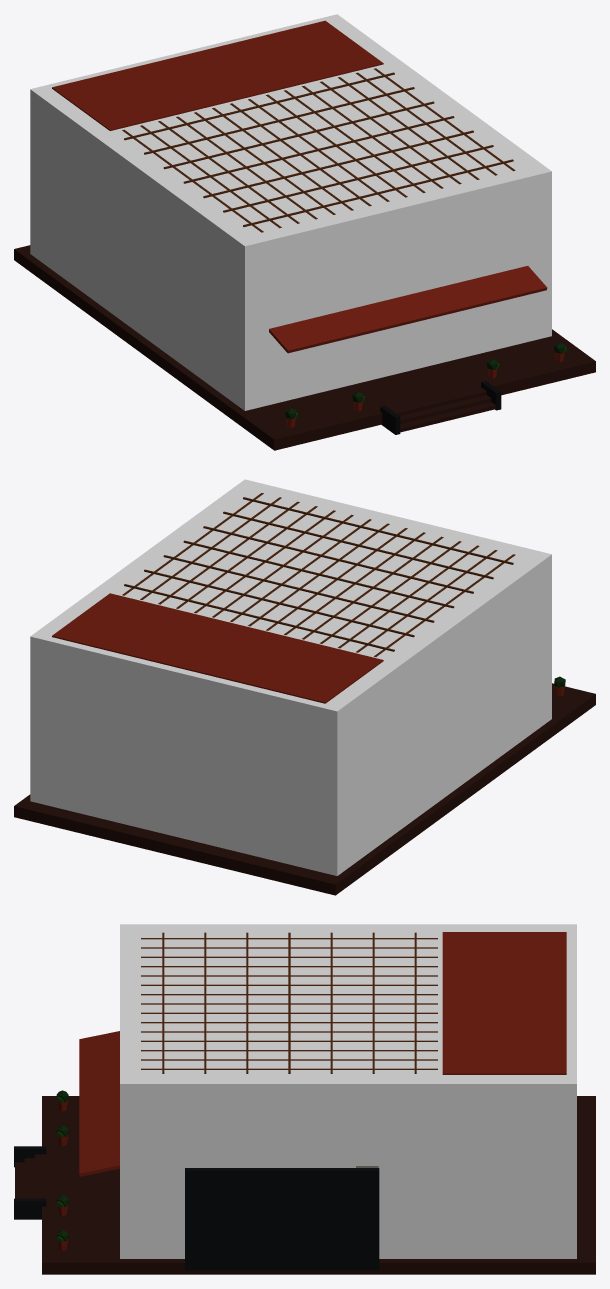
The model's file is C04_beach_cafe.glb.
3 renders of one model, top to bottom at view 1: azimuth 30°, elevation 25°; view 2: azimuth 150°, elevation 25°; view 3: azimuth 270°, elevation 25°, orthographic. The views are drawn at different scales.
Visible parts, largest first — view 1: COL_Main, LOD0; view 2: COL_Main, LOD0; view 3: COL_Main, LOD0.
Boxes of the visible parts, x1,y1,x2,y2 form: COL_Main: (30, 14, 551, 410); LOD0: (14, 20, 595, 450); COL_Main: (30, 479, 551, 875); LOD0: (14, 493, 595, 895); COL_Main: (120, 924, 576, 1258); LOD0: (14, 932, 595, 1274).
Size of what is drawn, in the model's own units: 13.9 by 7.1 by 19.75.
